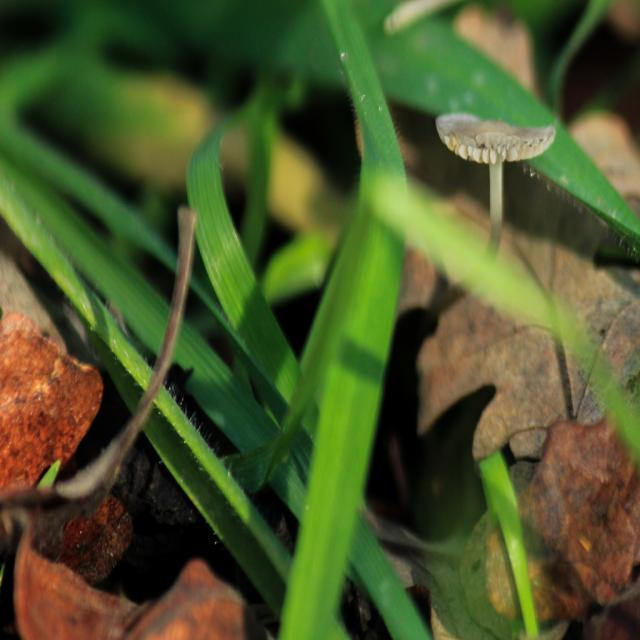Mushroom: (436, 113, 556, 225)
